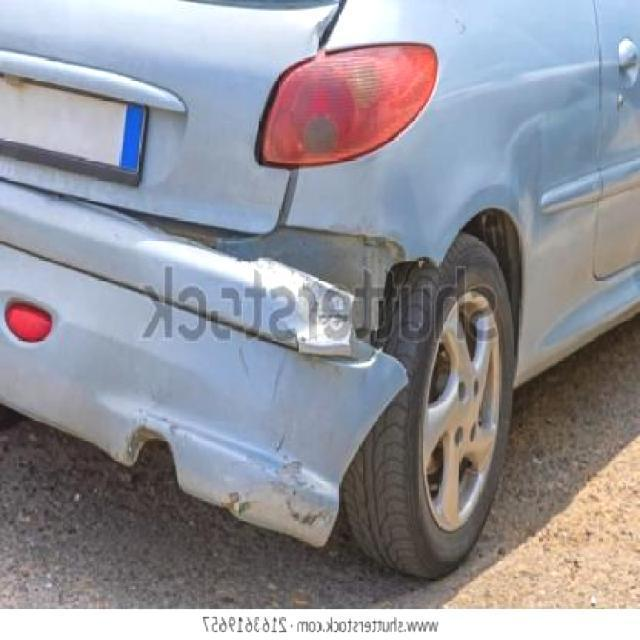minor: (0, 185, 408, 545)
